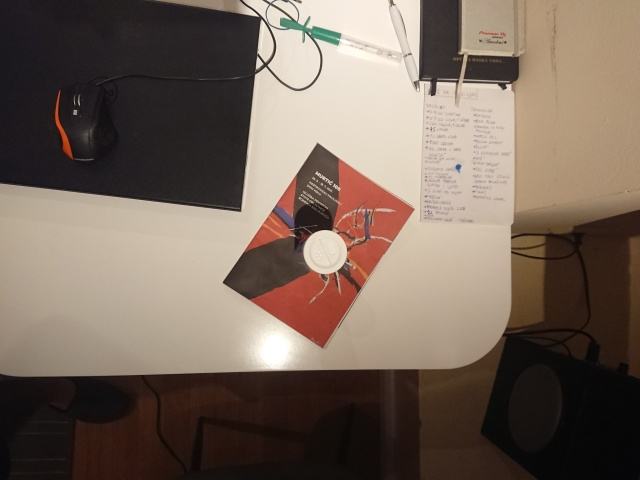Solana Pag Fine Sea Salt 250g: (301, 228, 349, 276)
